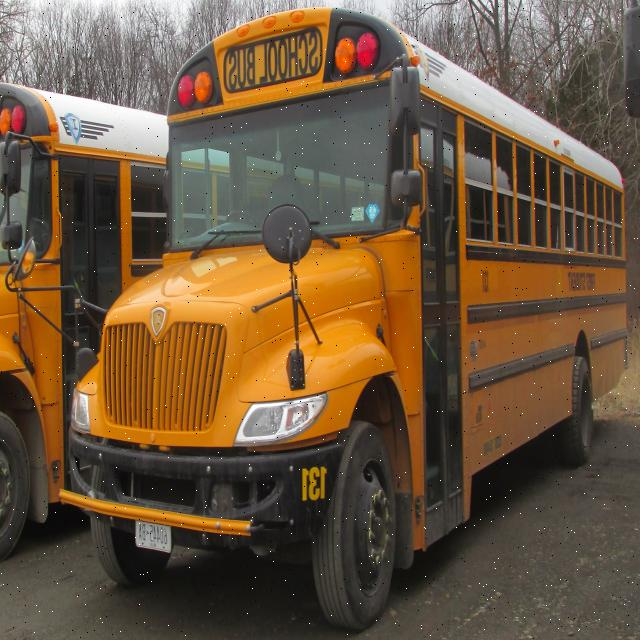Bus: (70, 4, 628, 623), (0, 84, 380, 554), (0, 89, 382, 546), (1, 86, 170, 550), (178, 148, 391, 226)
